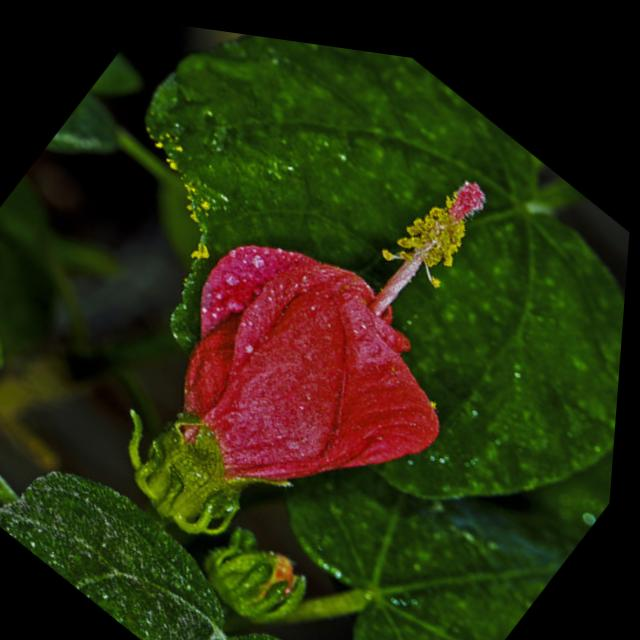Flower: (74, 46, 587, 640)
